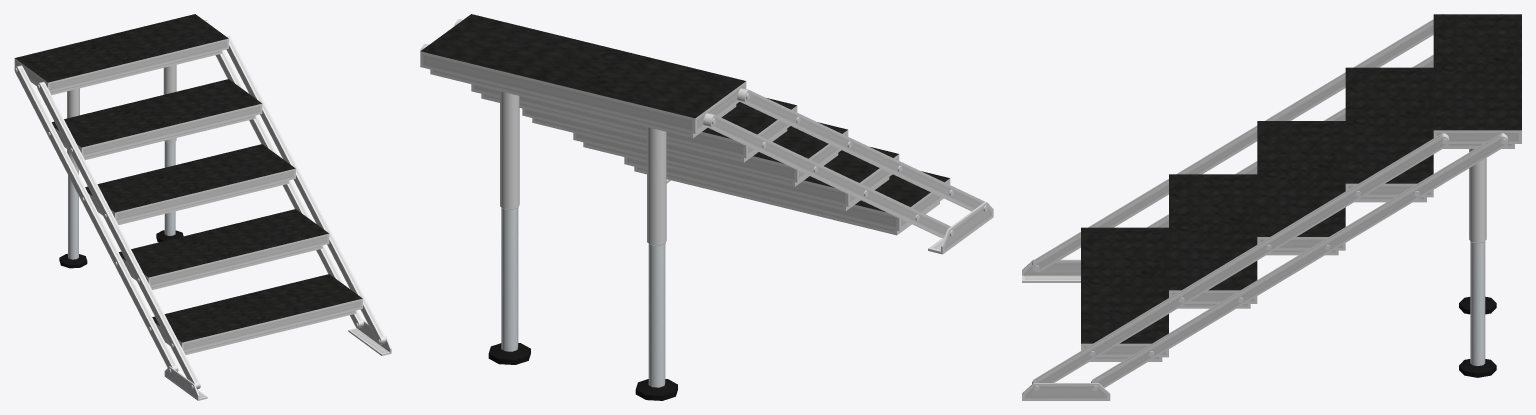
Rendered from SM_Stair_100_Frame.fbx.
The picture shows the model from 3 angles, left to right: view 1: azimuth 30°, elevation 25°; view 2: azimuth 150°, elevation 25°; view 3: azimuth 270°, elevation 25°; orthographic projection. The views are drawn at different scales.
Parts seen in each view (by area): view 1: SM_Stair_100_Frame_LOD0; view 2: SM_Stair_100_Frame_LOD0; view 3: SM_Stair_100_Frame_LOD0.
Boxes of the visible parts, x1,y1,x2,y2 form: SM_Stair_100_Frame_LOD0: (14,14,391,400); SM_Stair_100_Frame_LOD0: (420,14,993,400); SM_Stair_100_Frame_LOD0: (1022,14,1521,400).
Size of the model in its own units: 101 by 170 by 100.
2 materials, 2 textured.
